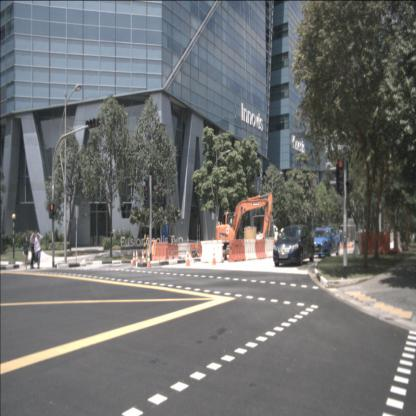human-pedestrian-adult: (34, 231, 43, 269), (30, 230, 36, 270), (23, 236, 29, 270)
movable_object-barrier: (200, 240, 224, 264), (361, 232, 385, 254), (228, 239, 246, 262), (373, 232, 391, 254), (384, 232, 402, 253), (150, 242, 168, 261), (244, 239, 257, 261), (255, 239, 267, 260), (190, 243, 205, 258), (178, 243, 192, 259), (165, 244, 179, 260), (353, 232, 362, 255), (264, 239, 274, 258)
movable_object-trafficcone: (212, 247, 216, 265), (186, 249, 190, 267), (141, 249, 145, 266), (146, 252, 150, 268), (132, 250, 136, 266), (135, 250, 138, 266)
vehicle-car: (273, 224, 314, 266), (310, 225, 340, 257)
